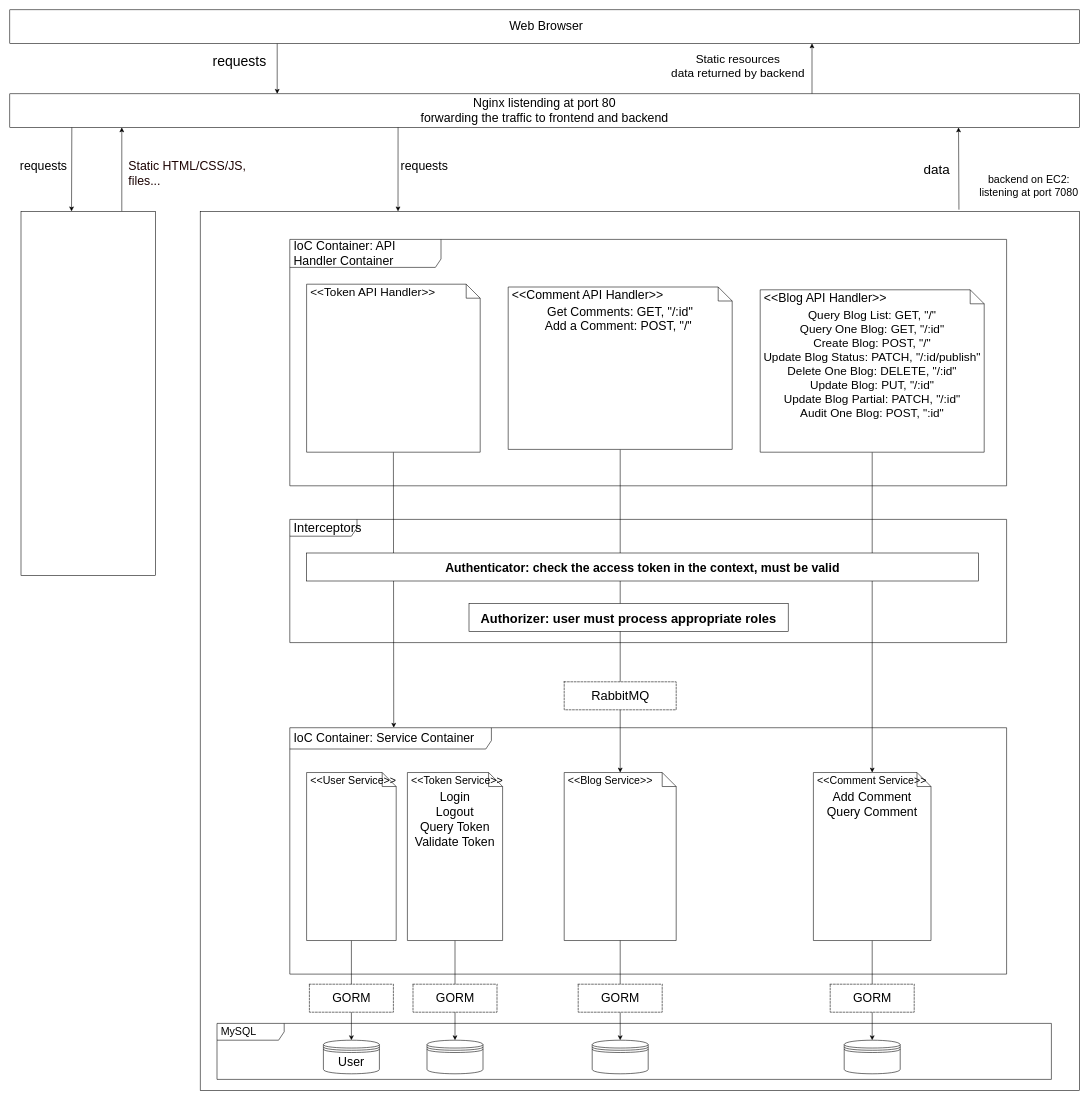
Image size: 1089x1100. Some labels were removed from this diagram. The shapes that lost their labels are listed below. From the top down, each one's centre as x and y in pixels, then its label:
the point at 393,368: Login: POST, "/tokens/" Logout: DELETE, "/tokens/"
the point at 87,393: Compiled frontend on AWS EC2
the point at 351,856: Create User Delete User Query User
the point at 620,856: Create Blog Update Blog Query Blog Delete Blog Audit Blog
the point at 454,1057: Token
the point at 620,1057: Blog
the point at 872,1057: Comment
